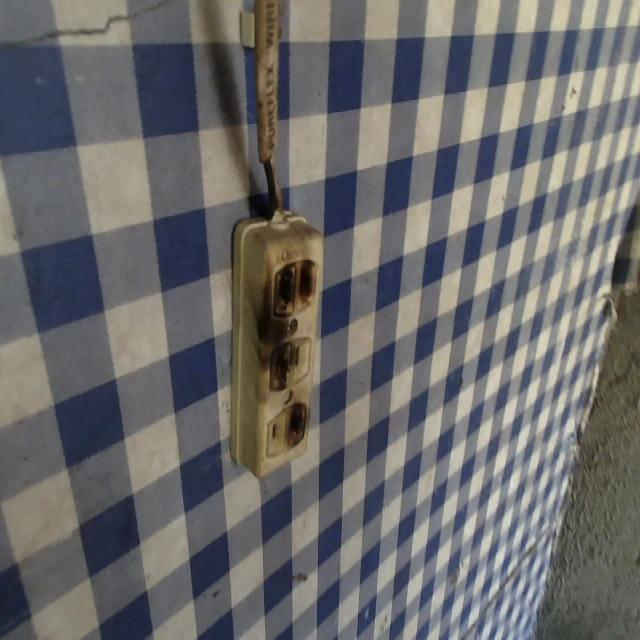-: (265, 255, 318, 313), (265, 336, 299, 391), (287, 399, 307, 444)
